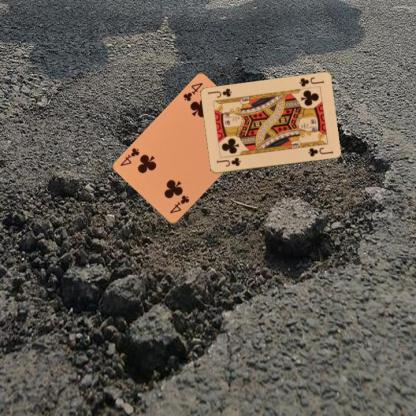4c: (180, 80, 204, 103), (167, 193, 191, 215)
Jc: (296, 74, 325, 88), (214, 155, 241, 168)
